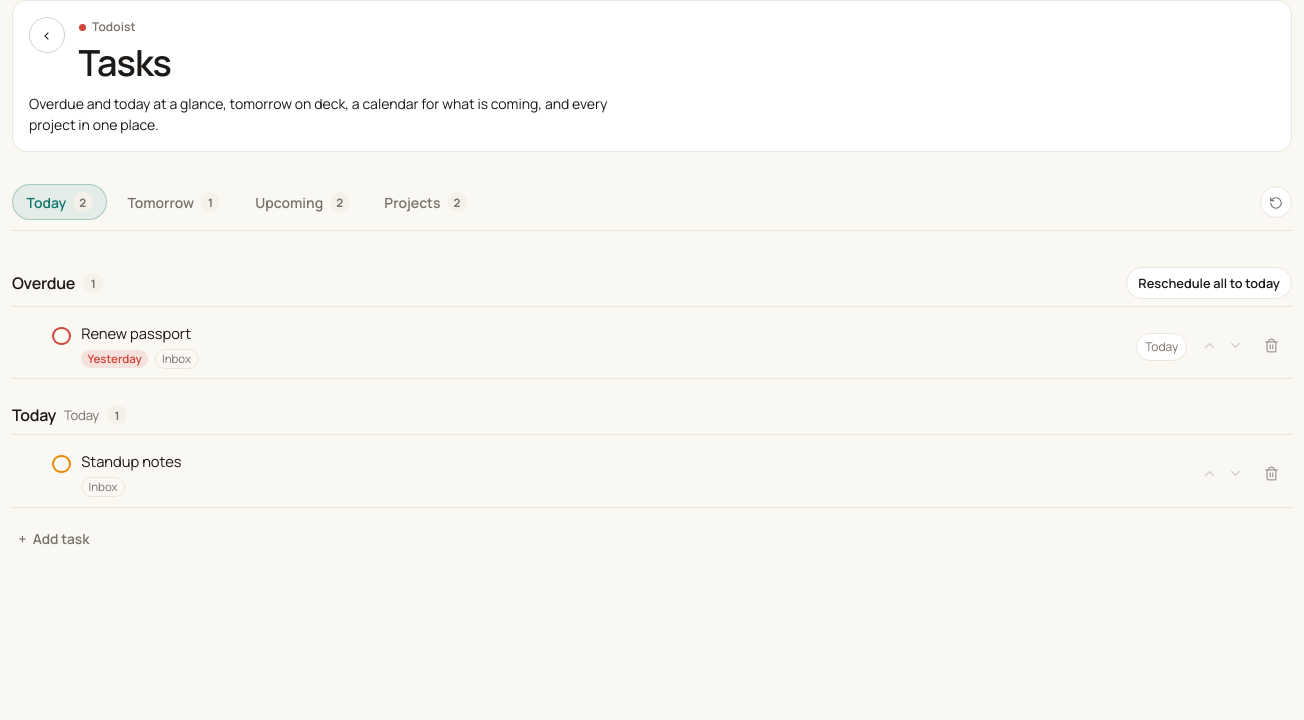
TasksPage › shows only tomorrow tasks on the Tomorrow view
Expected: the text "Standup notes" is shown, [81,451,182,471]
Click the button "Tomorrow 1" at point(174, 202), box [113,184,235,220]
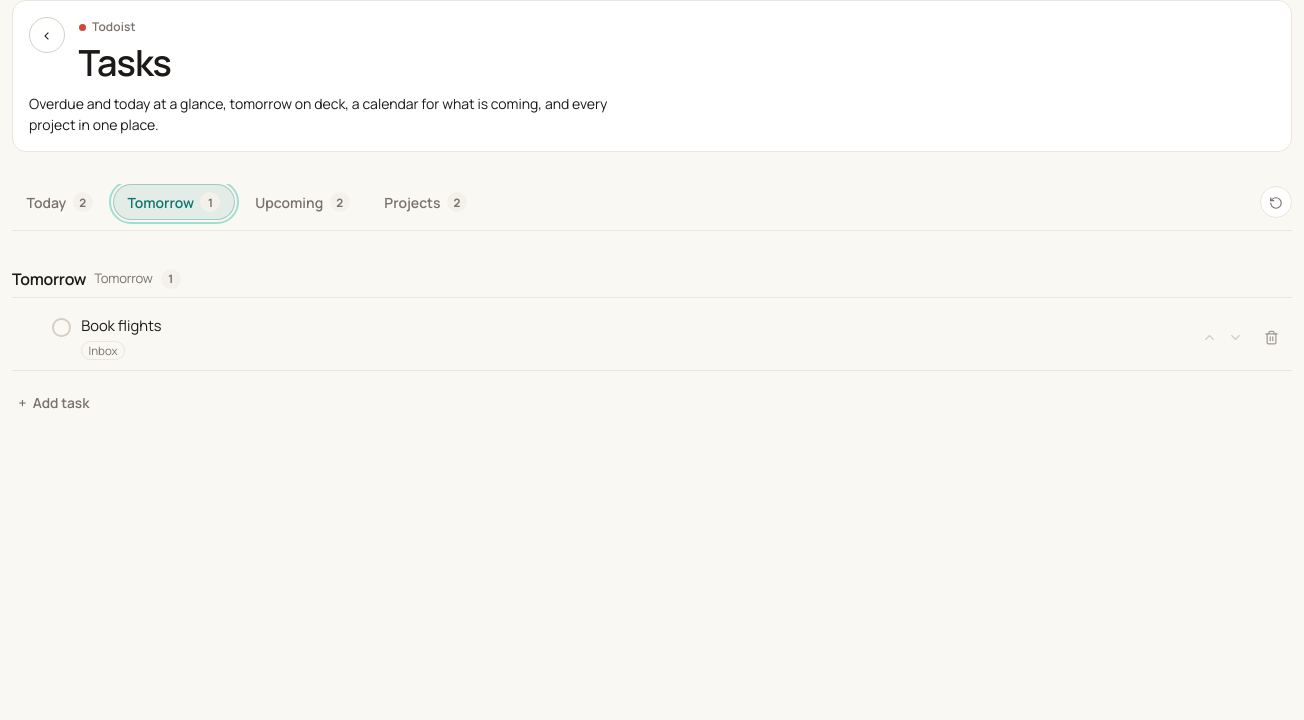
Expected: the text "Book flights" is shown, [81,315,162,335]
Expected: the button "Standup notes" is gone
Expected: the button "Renew passport" is gone
